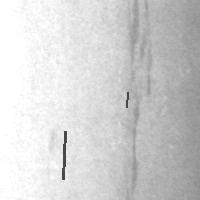inclusion: (117, 1, 157, 149), (121, 98, 144, 198), (61, 129, 67, 181), (124, 90, 129, 109)
